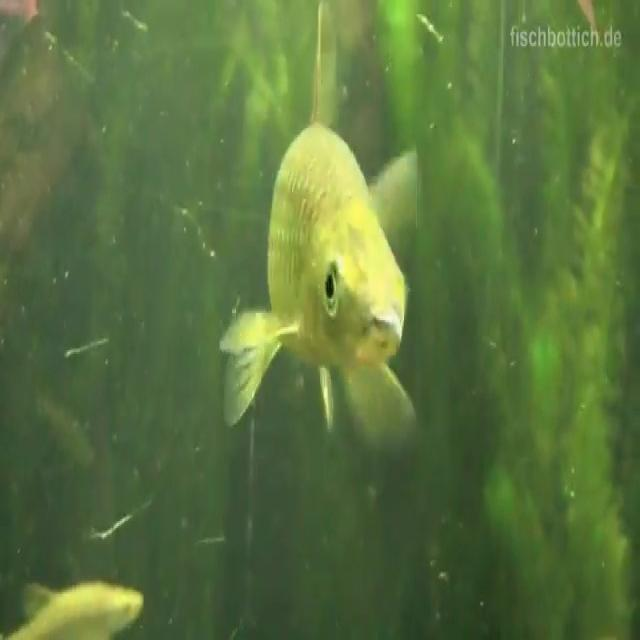Cakil Baligi: (216, 6, 432, 442)
